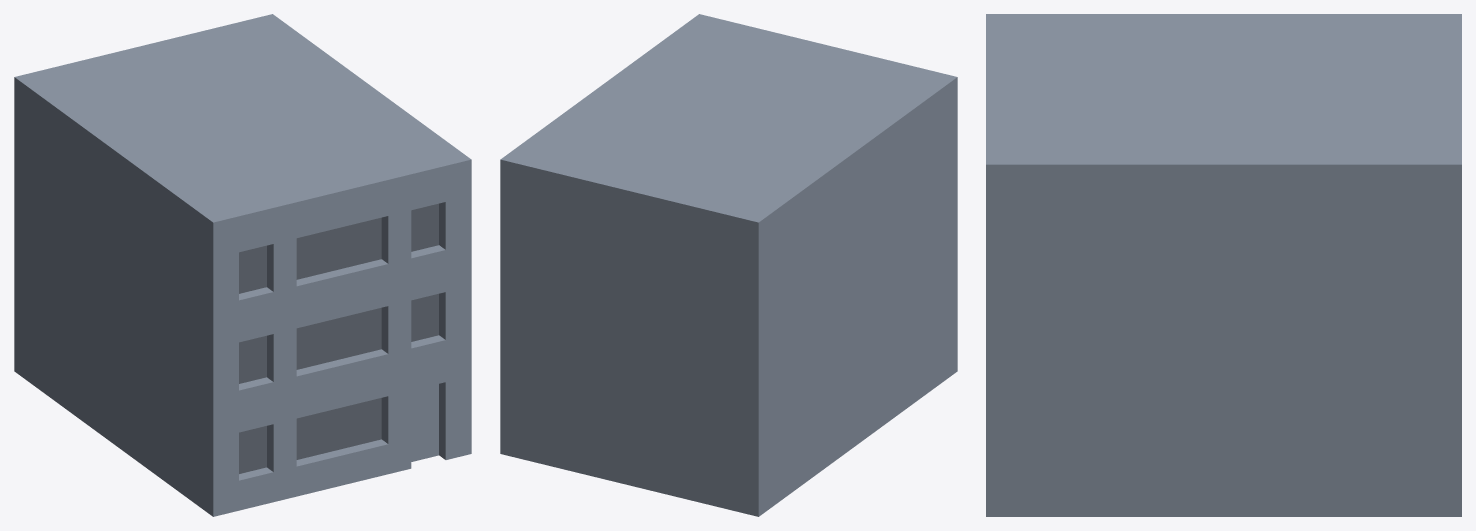
Rendered from Binakapanacak2.gltf.
3 renders of one model, left to right at view 1: azimuth 30°, elevation 25°; view 2: azimuth 150°, elevation 25°; view 3: azimuth 270°, elevation 25°, orthographic. The views are drawn at different scales.
Visible parts, largest first — view 1: Building_020, Building_020.002, Building_020.001; view 2: Building_020; view 3: Building_020.
Part boxes in pixels (x1,y1,x2,y2): Building_020: [14, 14, 471, 516]; Building_020.002: [239, 203, 438, 473]; Building_020.001: [411, 384, 438, 461]; Building_020: [500, 14, 957, 516]; Building_020: [986, 14, 1461, 516].
Bounding box in the file's own units: 0.0489 × 0.0533 × 0.0652.
